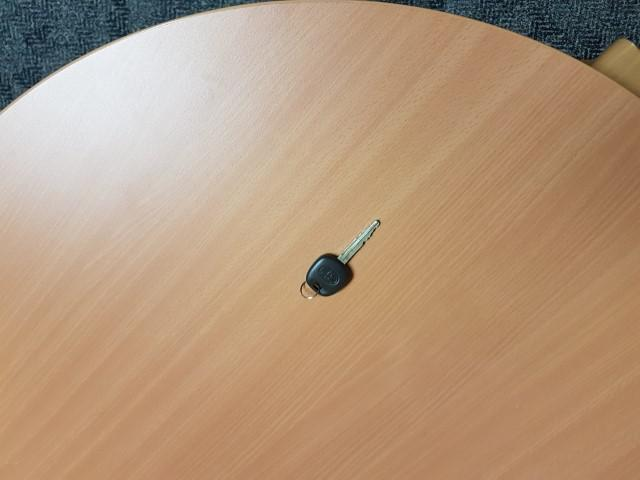key: (307, 217, 381, 298)
